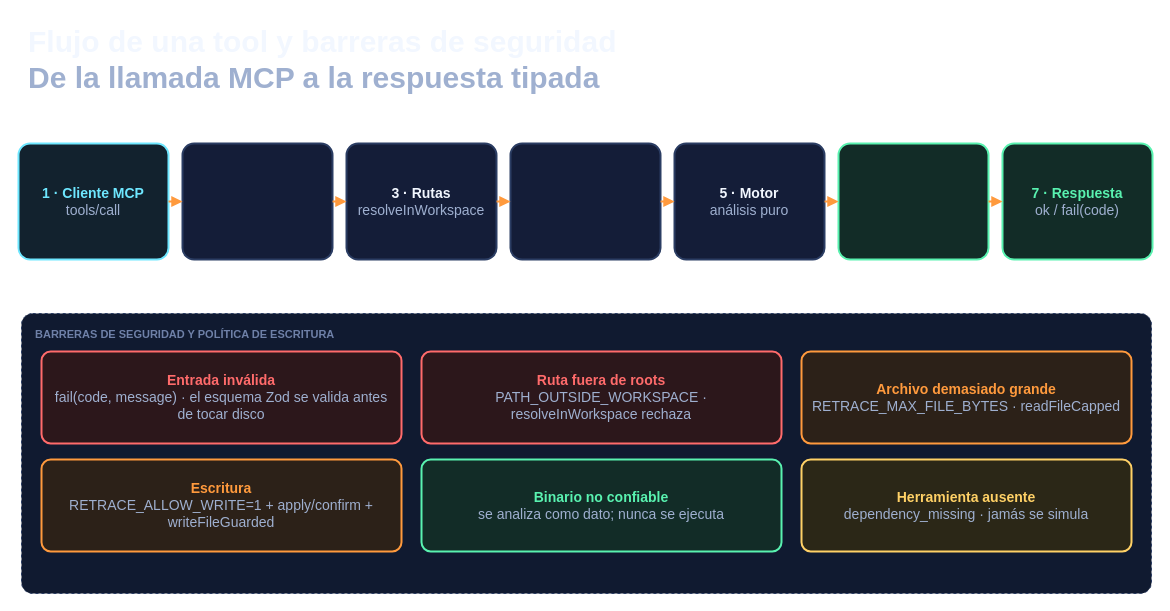
This 1170x611 diagram has some shape labels left out. Here are the shapes that lost their labels. From the top down, the centre of each, then its label:
the point at 257,201: 2 · registerTool esquema Zod
the point at 585,201: 4 · Lectura readFileCapped
the point at 913,201: 6 · Evidencia data + limitations
